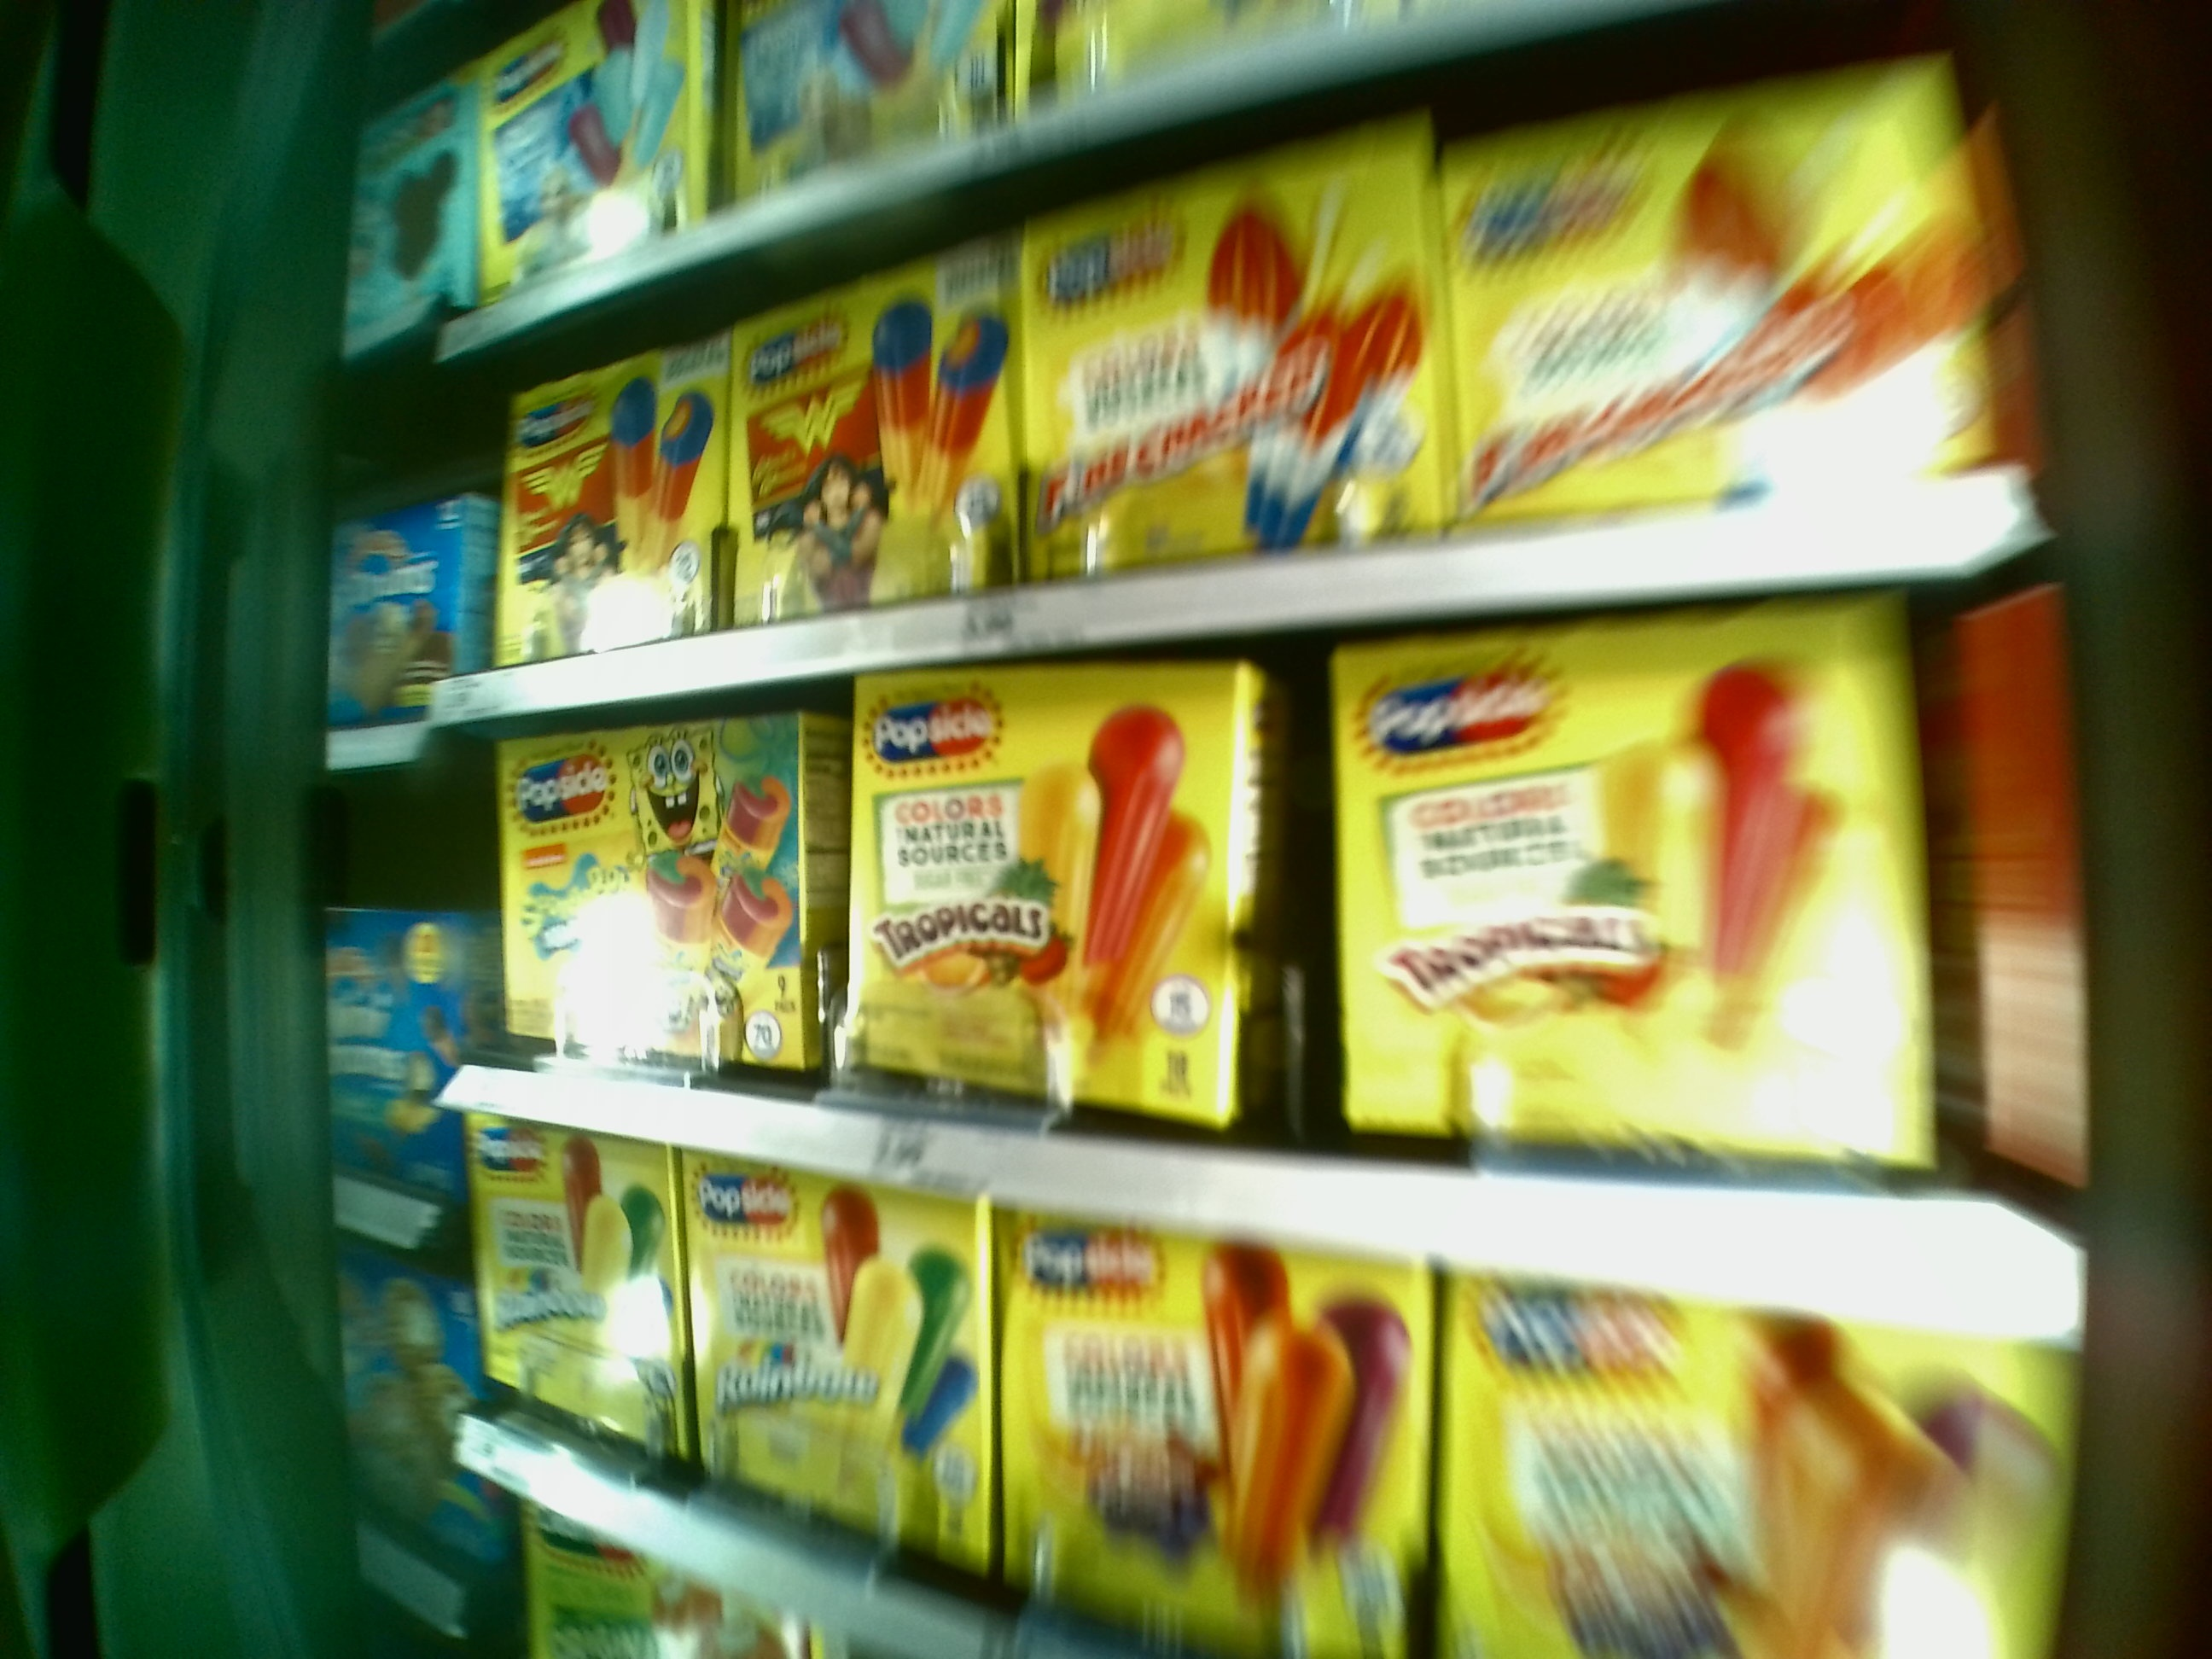shelf: (458, 638, 2099, 1180), (479, 1140, 2090, 1659), (469, 160, 2054, 617)
